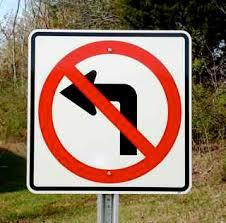no_left_turn: (38, 39, 181, 182)
